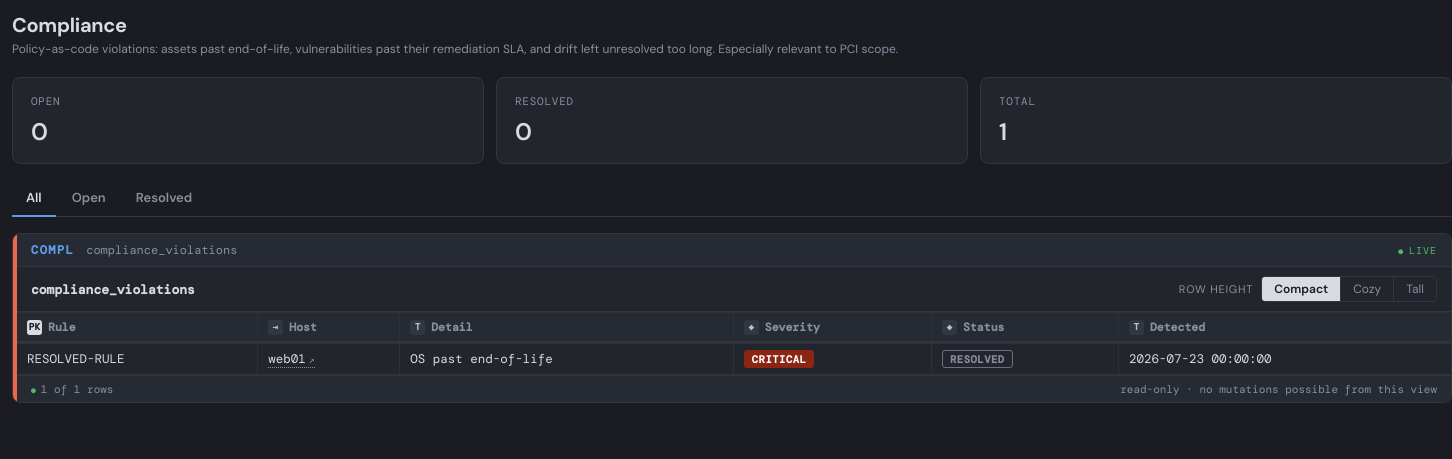
Test case: Compl page — Open/Resolved tile accuracy (TRK-167 follow-up: fleet-wide aggregate) › shows a clean (good-news) empty state when findings exist but none are currently open
This screenshot has width=1452, height=459.
Expected: the text "RESOLVED-RULE" is shown, [17, 344, 258, 374]
Click the tab "Open" at x=89, y=198, box [58, 180, 120, 217]
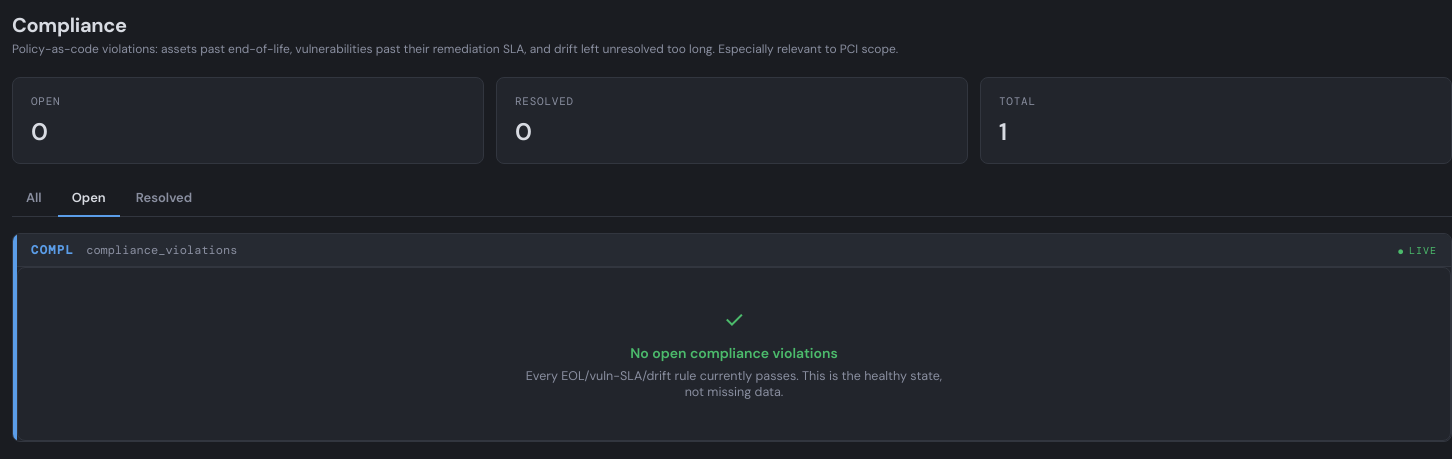
Expected: the text "No open compliance violations" is shown, [630, 344, 838, 362]
